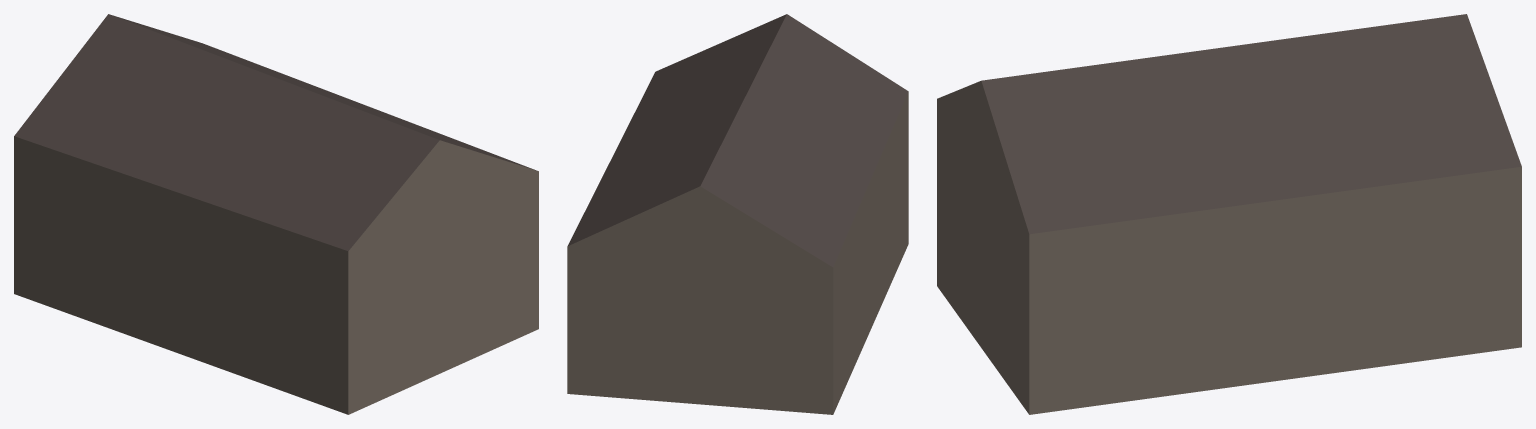
3 views of the same model, side by side, from view 1: azimuth 30°, elevation 25°; view 2: azimuth 150°, elevation 25°; view 3: azimuth 270°, elevation 25° (orthographic). The views are drawn at different scales.
Parts seen in each view (by area): view 1: HP-w1513026704; view 2: HP-w1513026704; view 3: HP-w1513026704.
Part boxes in pixels (<box>): HP-w1513026704: <box>14,14,538,414</box>; HP-w1513026704: <box>567,14,908,414</box>; HP-w1513026704: <box>937,14,1521,414</box>.
Bounding box in the file's own units: 21.33 × 13.32 × 26.41.
